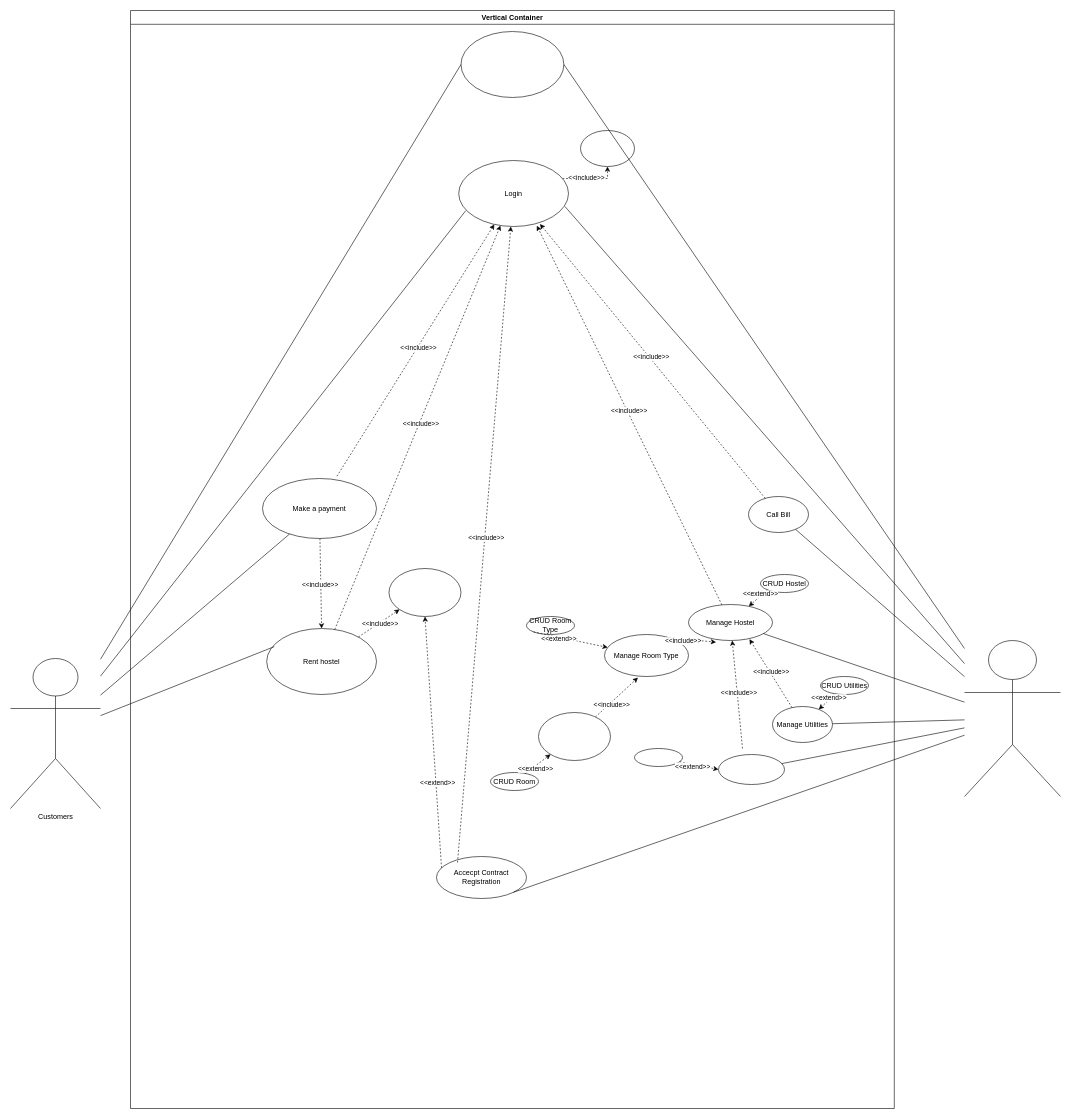
Image size: 1071x1119. Some labels were removed from this diagram. The shapes that lost their labels are listed below. From the top down, each one's centre as x and y in pixels, then its label:
At (x=512, y=64): "View List Hotel, Room Details".
At (x=607, y=148): "Register".
At (x=424, y=592): "Contract registration".
At (x=574, y=736): "Manage Room".
At (x=1012, y=718): "Hostel Management".
At (x=658, y=757): "CRUD Service".
At (x=751, y=769): "Manage Services".
